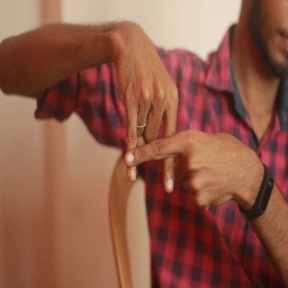H: (105, 86, 209, 195)
